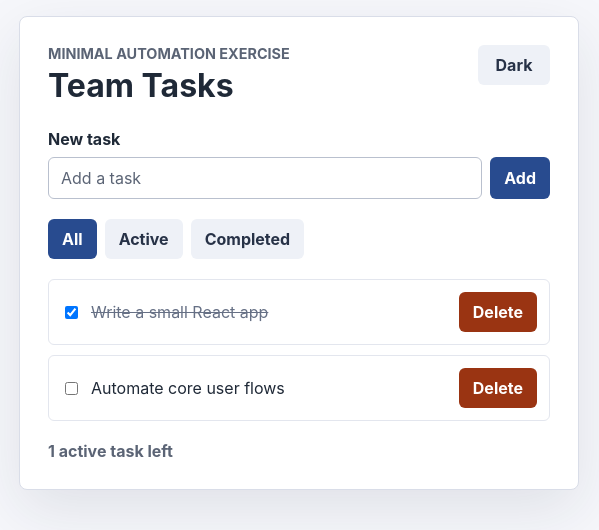
Test: Team Tasks app › deletes a task from the list
Click the button "Delete" in the row of "Automate core user flows" at {"x": 498, "y": 388}, box [459, 368, 537, 408]
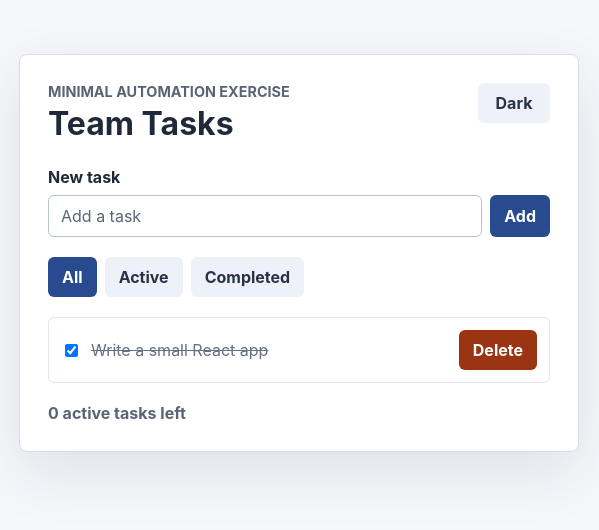
Expected: the text "Automate core user flows" is gone
Expected: the text "0 active tasks left" is shown, [48, 403, 186, 423]
